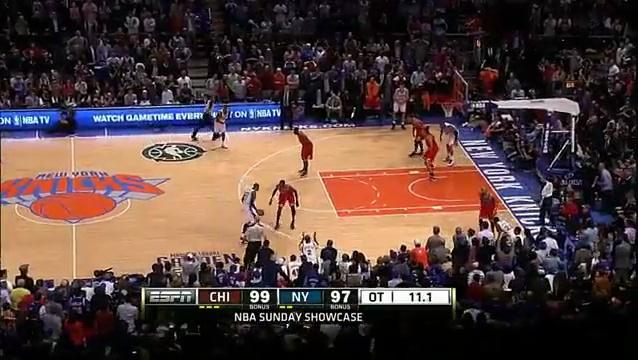Backboard: (453, 70, 468, 113)
Ball: (259, 209, 265, 216)
Basket: (441, 101, 457, 118)
Person: (271, 179, 300, 231), (418, 126, 439, 182), (293, 125, 314, 178), (390, 81, 409, 134), (242, 181, 264, 226), (209, 108, 232, 151), (440, 119, 460, 168), (477, 184, 496, 233), (407, 115, 429, 157), (492, 216, 515, 238)
Referee: (191, 93, 219, 142), (243, 214, 268, 263), (534, 173, 556, 228)
Shot Clock: (565, 80, 578, 95)
